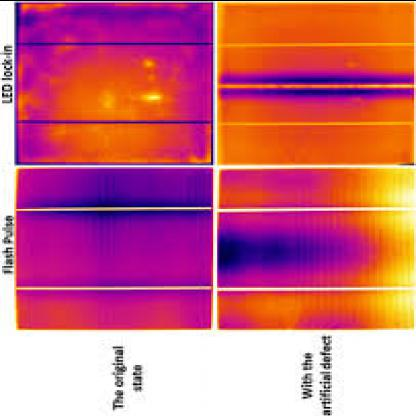Defects: (379, 206, 414, 278)
